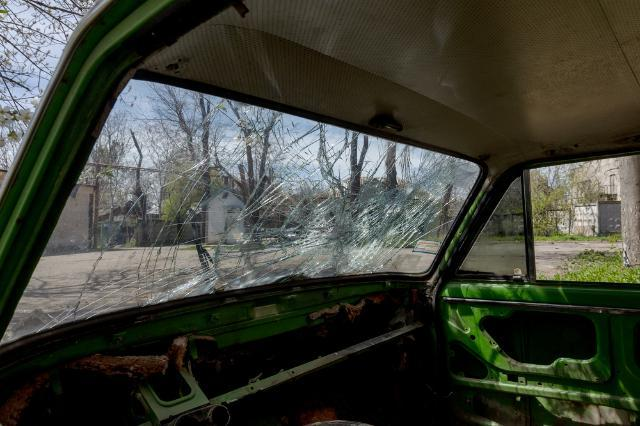glass shatter: (0, 77, 480, 347)
